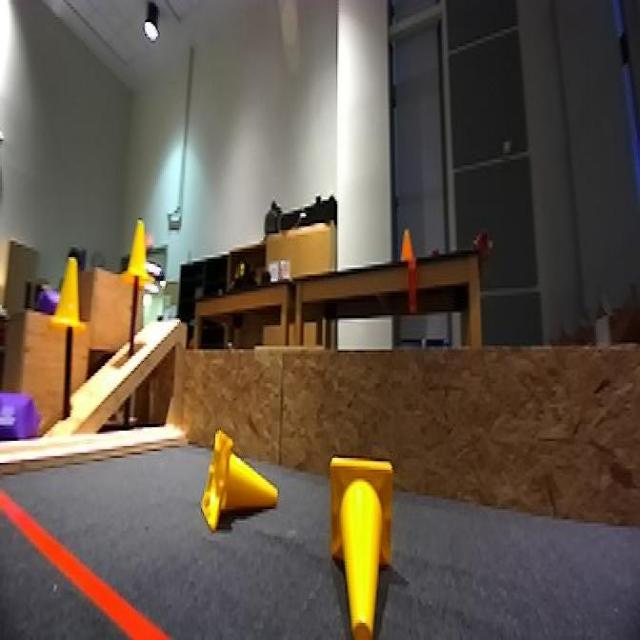frc_cone: (330, 449, 394, 640), (198, 431, 276, 536), (53, 252, 87, 337), (126, 223, 158, 301)
frc_cube: (0, 391, 32, 449), (26, 288, 64, 315)
